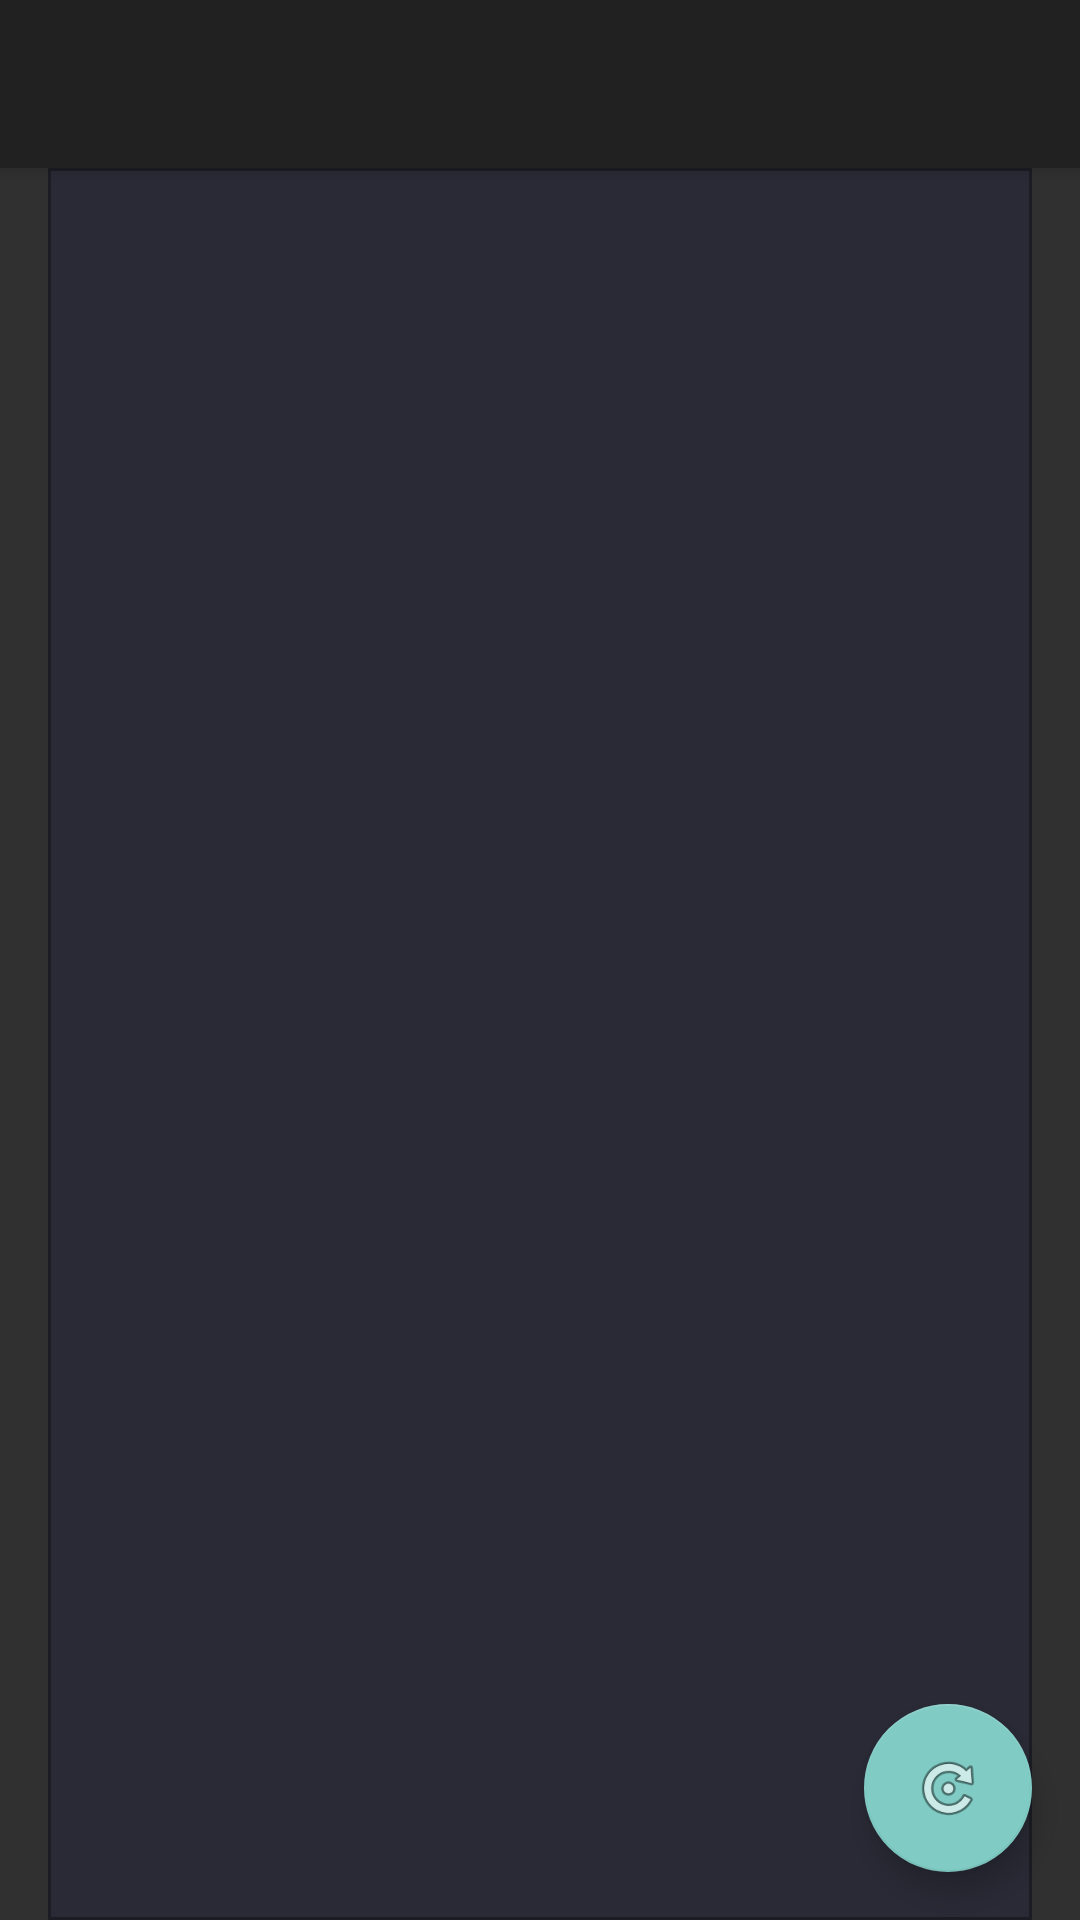

Where to tap for icons on this 1080 × 1920 app screen, as point (x, y):
rotate: point (948, 1788)
